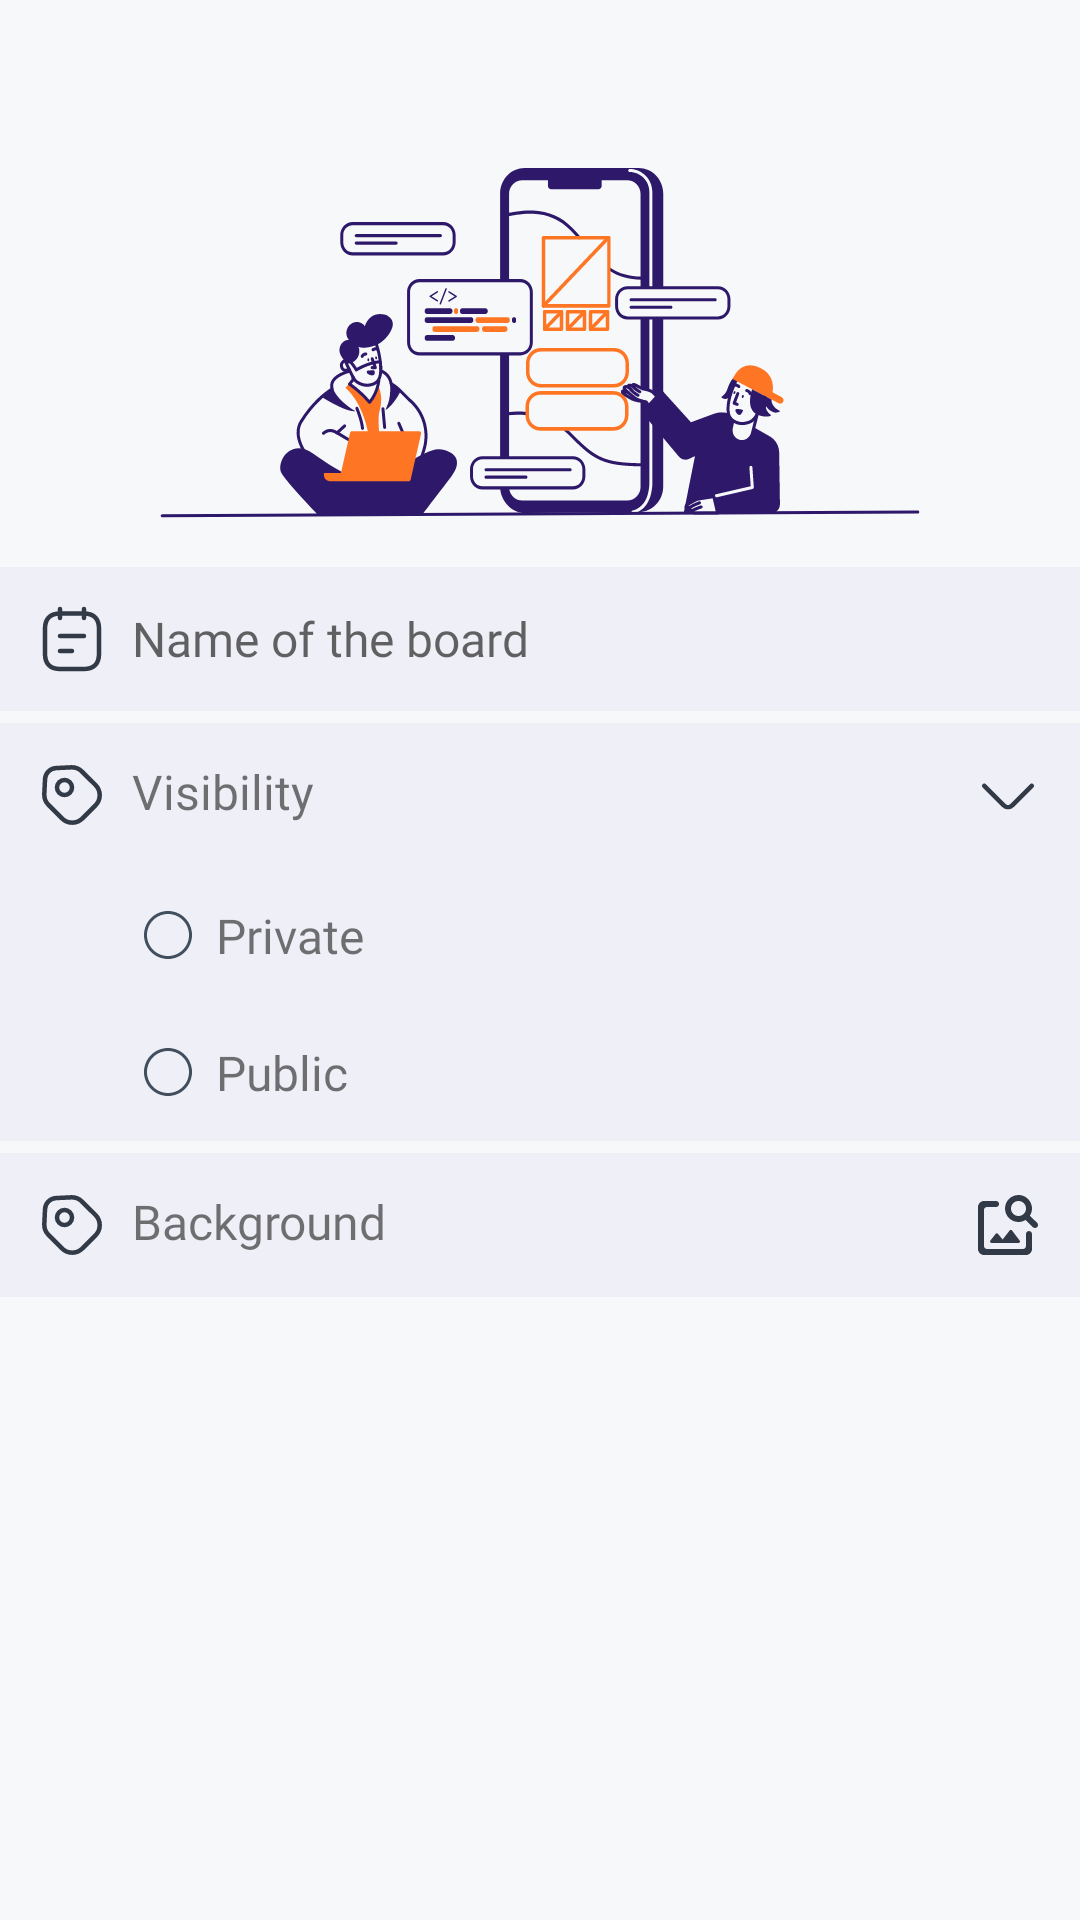

Named icons in this screenshot (1080px x 1920px) and their bounding boxes, (x1, y1, x2, y2):
arrow down: (982, 783, 1034, 810)
search: (978, 1195, 1038, 1255)
